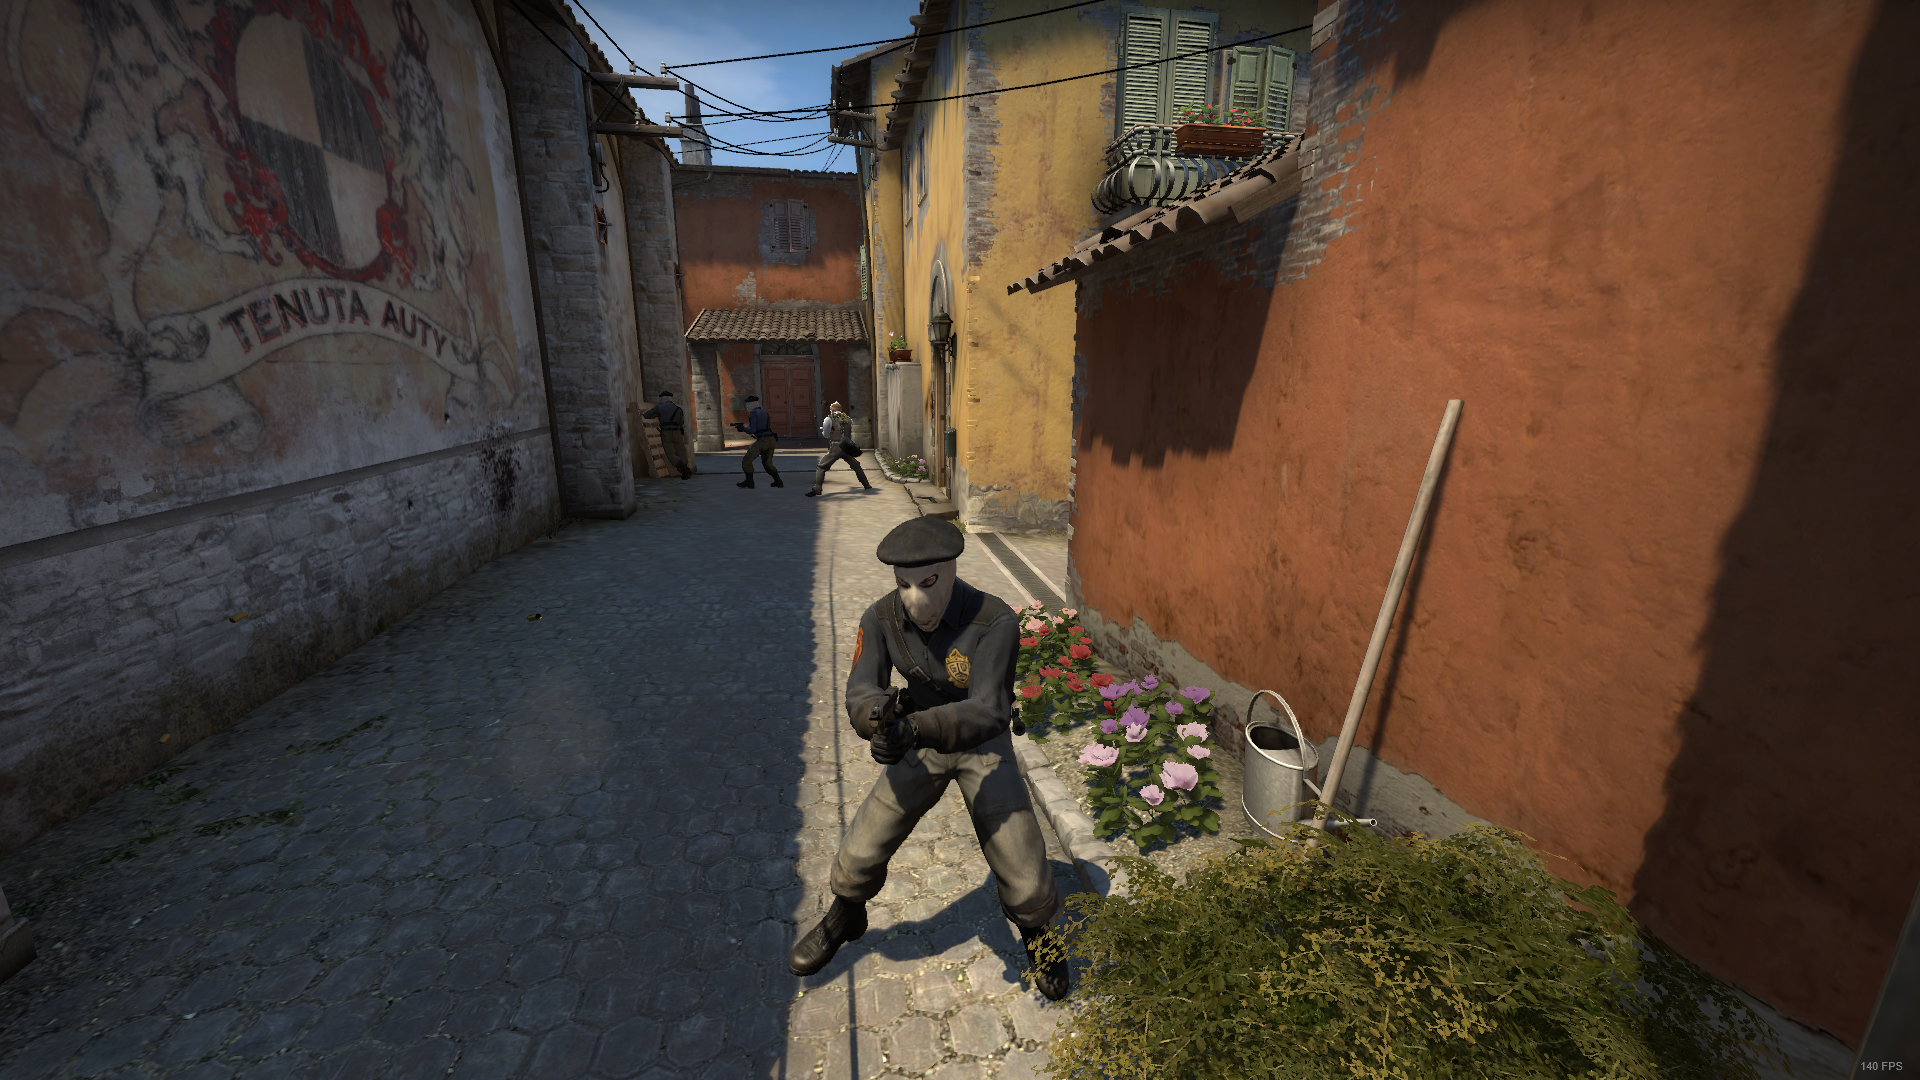t: (781, 520, 1093, 1004), (644, 389, 698, 487), (733, 396, 785, 491)
